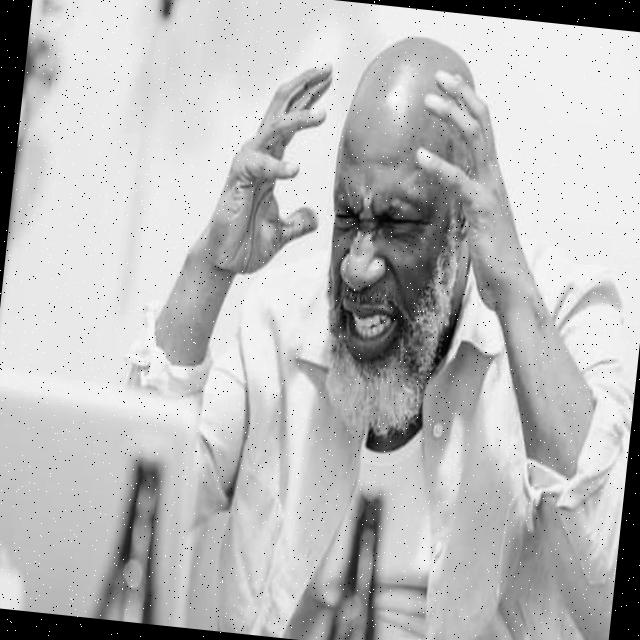Angry: (308, 91, 471, 435)
